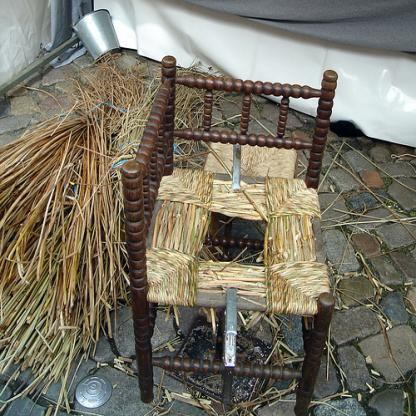chair: (121, 55, 338, 415)
